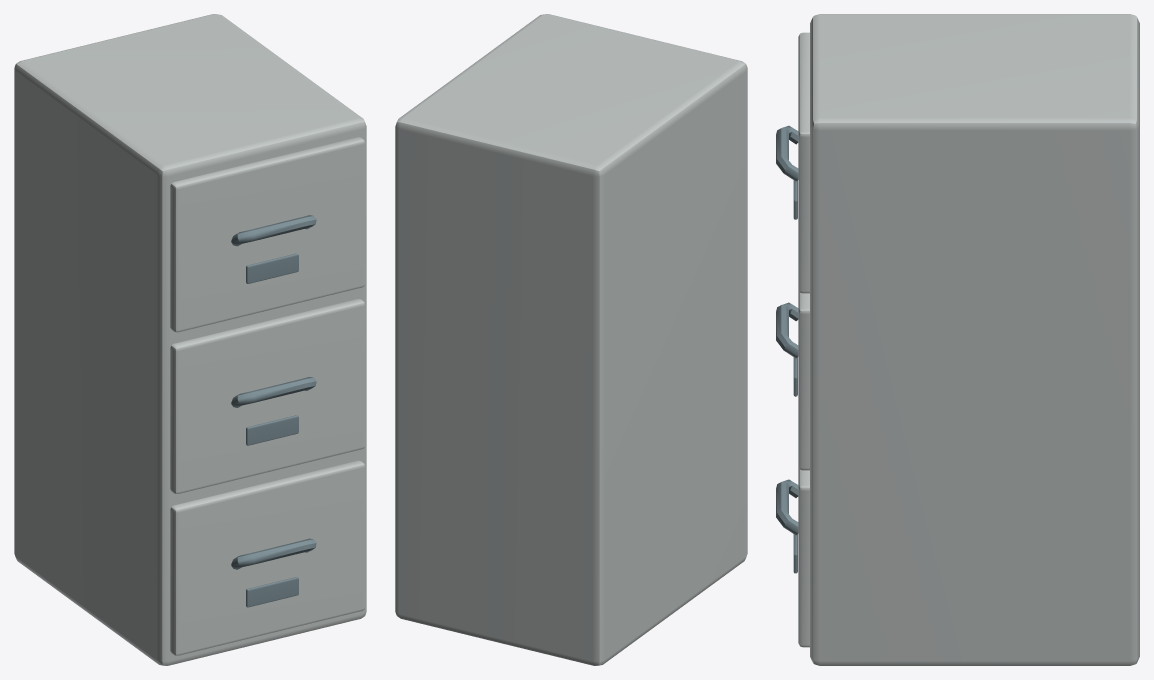
The model's file is filing-cabinet.glb.
3 views of the same model, side by side, from view 1: azimuth 30°, elevation 25°; view 2: azimuth 150°, elevation 25°; view 3: azimuth 270°, elevation 25° (orthographic). The views are drawn at different scales.
Visible parts, largest first — view 1: metal_case, drawer_front, drawer_front.002, drawer_front.001, drawer_handle, drawer_handle.002, drawer_handle.001, label_holder.001, label_holder, label_holder.002; view 2: metal_case; view 3: metal_case, drawer_front.002, drawer_front, drawer_front.001, drawer_handle.002, drawer_handle.001, drawer_handle.
Boxes of the visible parts, x1,y1,x2,y2 form: metal_case: [14, 14, 366, 665]; drawer_front: [170, 460, 365, 655]; drawer_front.002: [170, 137, 365, 332]; drawer_front.001: [170, 299, 365, 493]; drawer_handle: [231, 538, 316, 569]; drawer_handle.002: [231, 215, 316, 246]; drawer_handle.001: [231, 377, 316, 407]; label_holder.001: [246, 415, 298, 445]; label_holder: [246, 577, 298, 607]; label_holder.002: [246, 253, 298, 283]; metal_case: [395, 14, 747, 665]; metal_case: [810, 14, 1139, 665]; drawer_front.002: [798, 32, 809, 293]; drawer_front: [798, 466, 809, 647]; drawer_front.001: [798, 289, 809, 470]; drawer_handle.002: [776, 125, 798, 181]; drawer_handle.001: [776, 302, 798, 358]; drawer_handle: [776, 479, 798, 535].
Size of the model in its own units: 0.48 by 1.1 by 0.6618.
